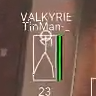hacks_1: (20, 12, 71, 96)
